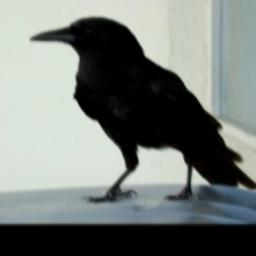Crow: (25, 16, 256, 205)
